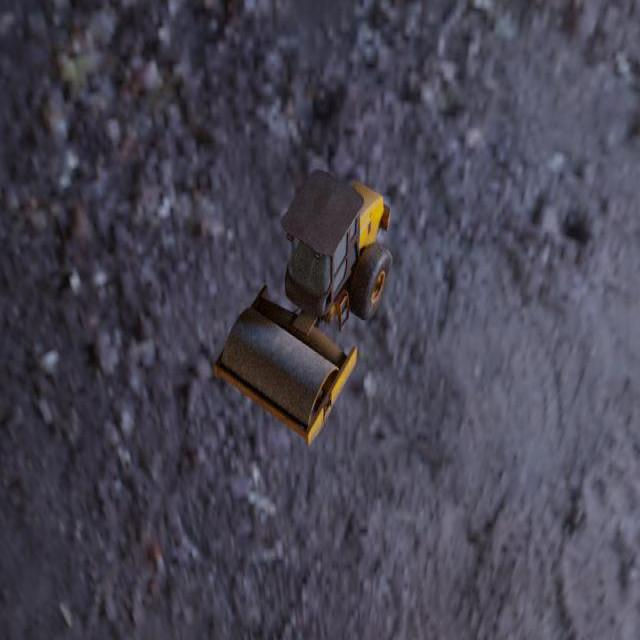Roller: (213, 168, 392, 445)
